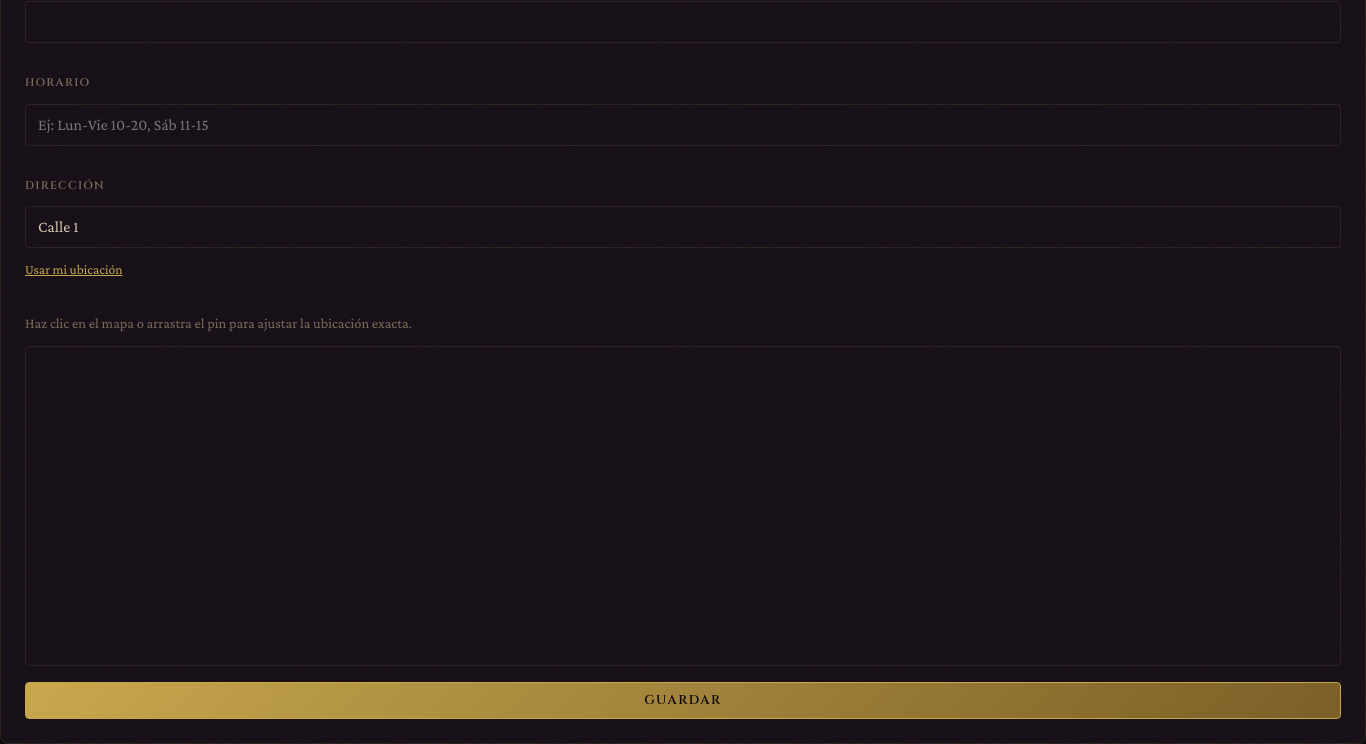
Scenario: ConfiguracionTiendaTab › guarda los datos de la tienda
The image size is (1366, 744).
(page scrolled)
Click the button "Guardar" at (683, 701), box top-left (25, 682), bottom-right (1341, 720)
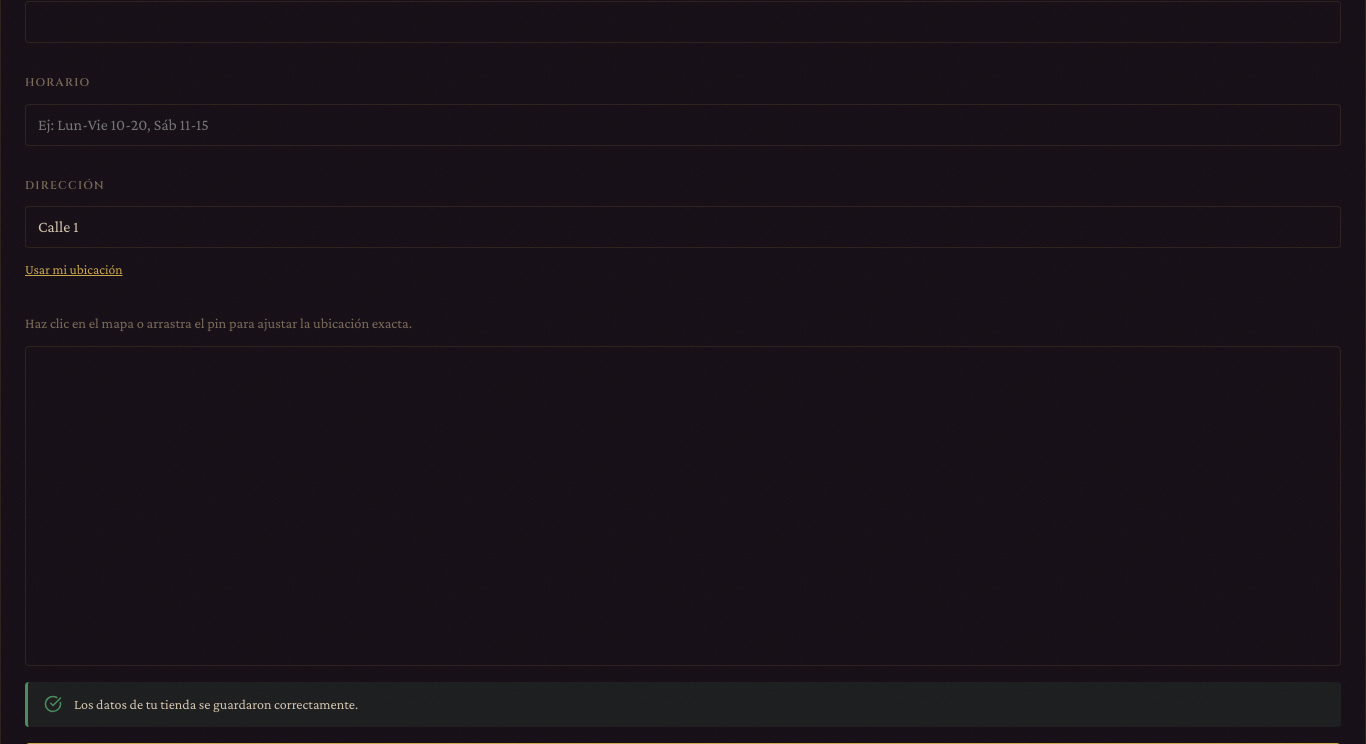
Check: the text "Los datos de tu tienda se guardaron correctamente." is shown, box top-left (74, 694), bottom-right (358, 715)
